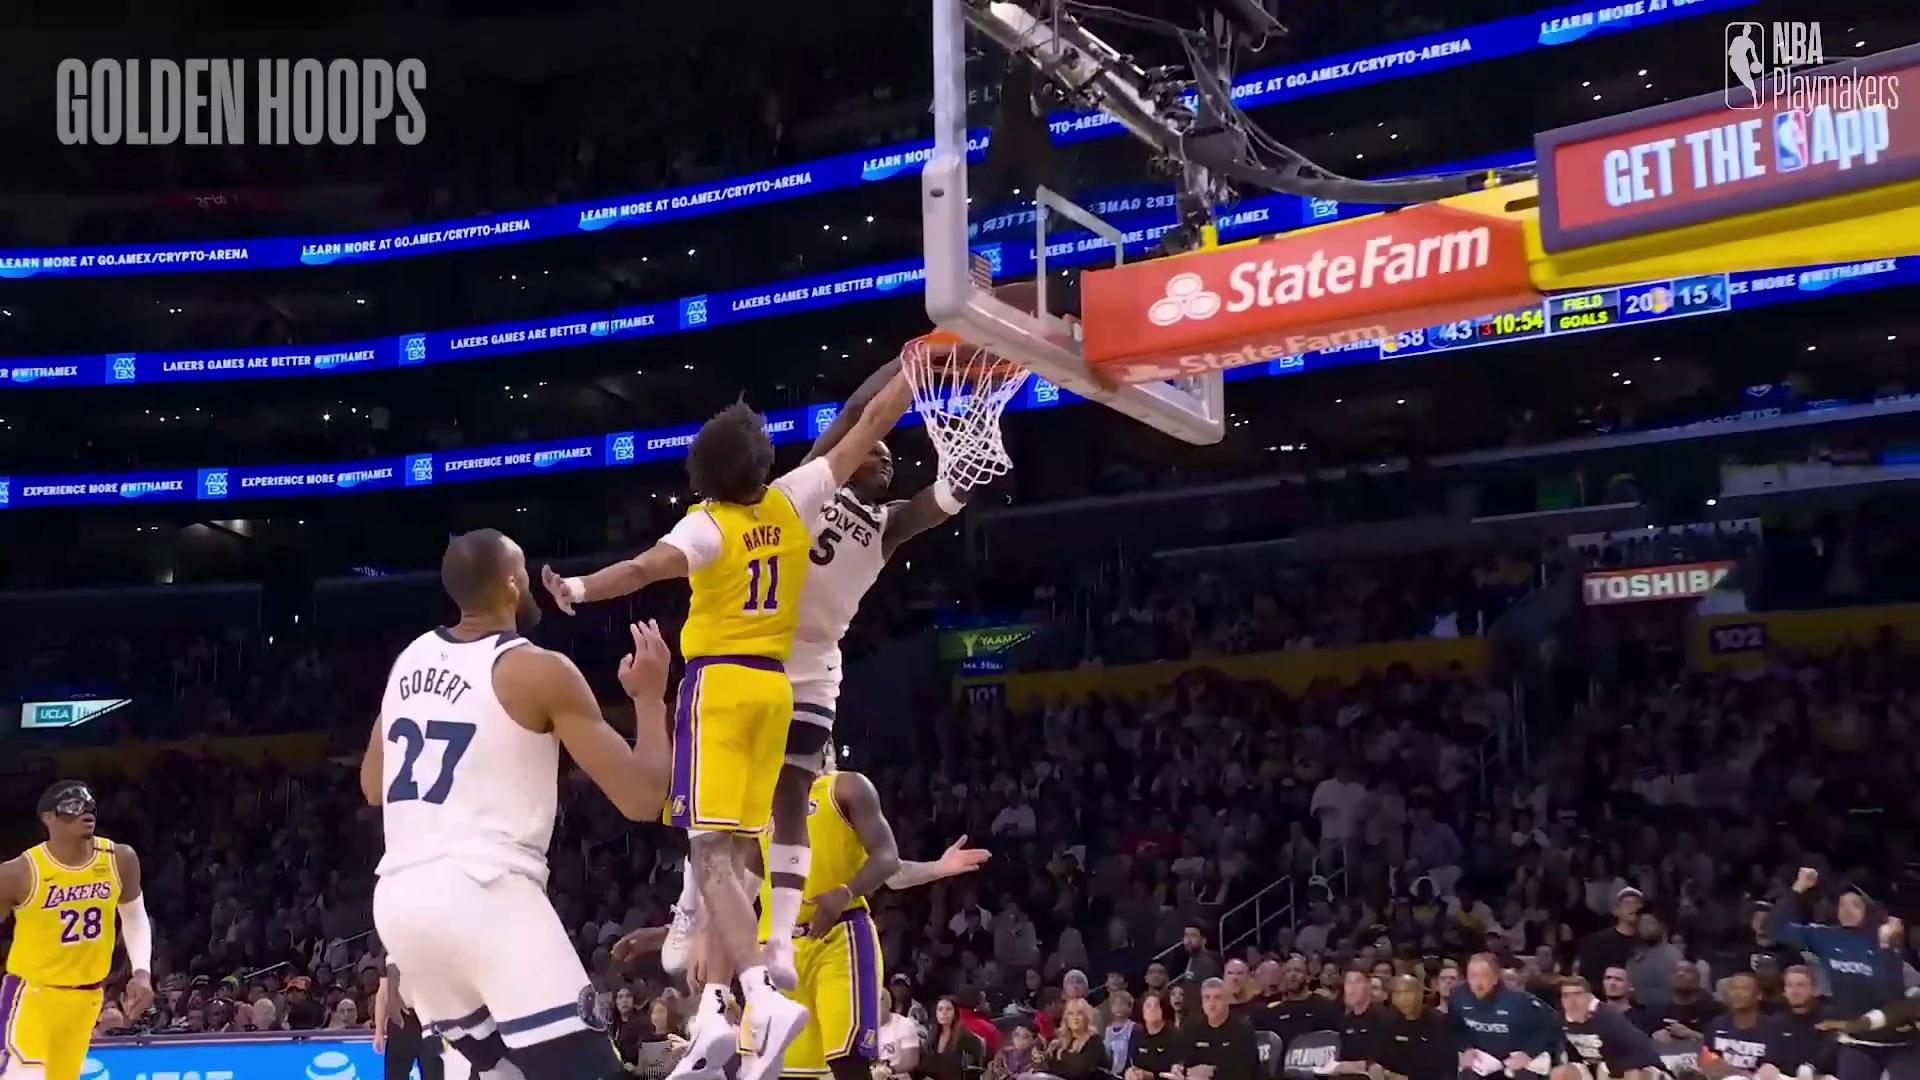hoop: (898, 326, 1013, 487)
